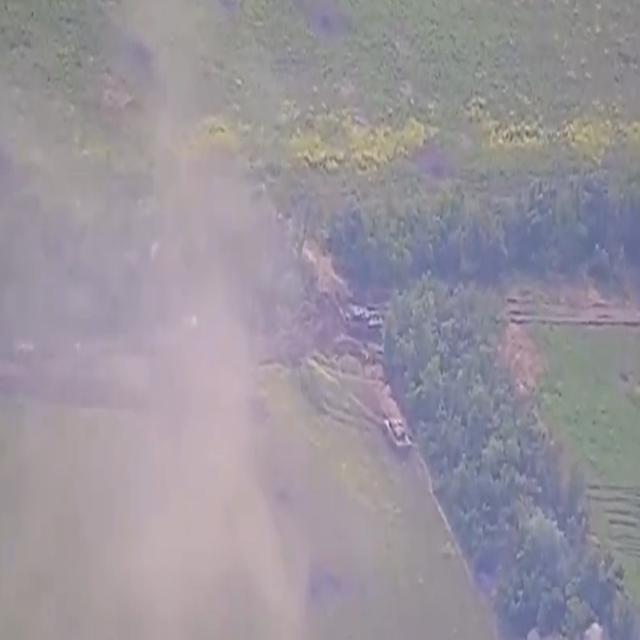MBT: (383, 410, 413, 456), (347, 304, 384, 334)
